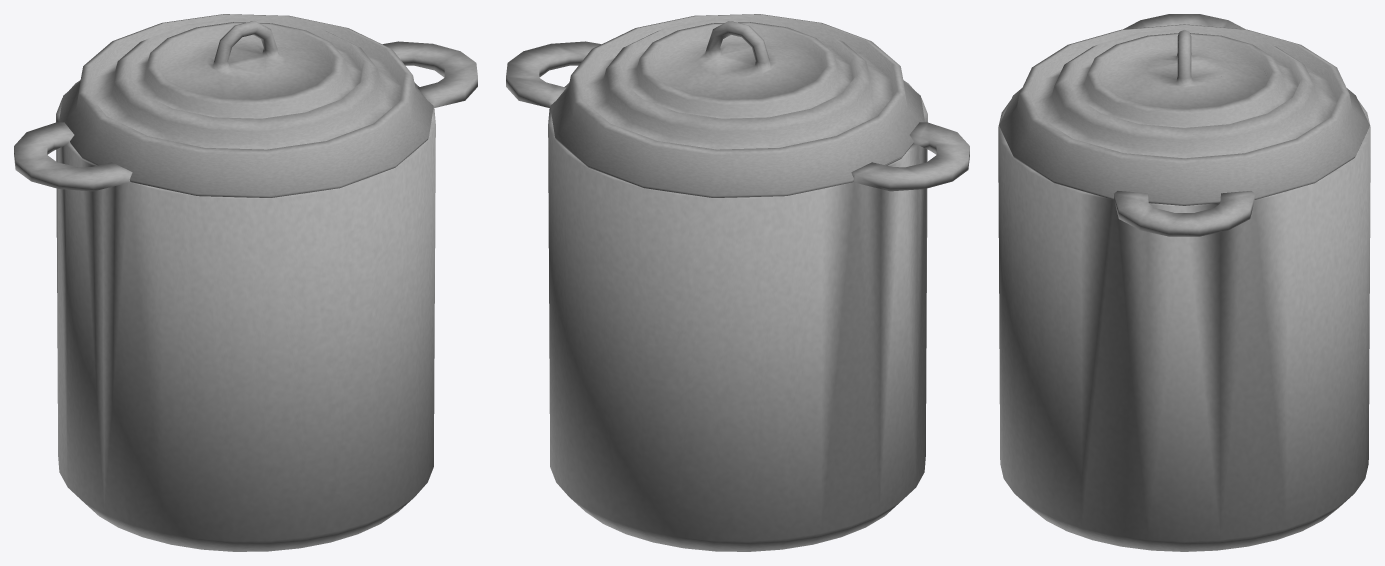
File: cookingpot_002.glb
3 renders of one model, left to right at view 1: azimuth 30°, elevation 25°; view 2: azimuth 150°, elevation 25°; view 3: azimuth 270°, elevation 25°, orthographic. The views are drawn at different scales.
Parts seen in each view (by area): view 1: cookingpot.002, cookingpotpot.002; view 2: cookingpot.002, cookingpotpot.002; view 3: cookingpot.002, cookingpotpot.002.
Boxes of the visible parts, box(x1,y1,x2,y2) form: cookingpot.002: box(14, 41, 477, 551); cookingpotpot.002: box(59, 14, 433, 197); cookingpot.002: box(506, 41, 969, 551); cookingpotpot.002: box(550, 14, 924, 197); cookingpot.002: box(998, 14, 1370, 551); cookingpotpot.002: box(999, 24, 1369, 205).
Size of the model in its own units: 5.18 by 5.1 by 3.84.
Materials: 1 (1 with a texture image).
